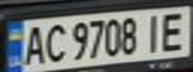0: (103, 16, 124, 57)
7: (84, 17, 106, 60)
8: (121, 14, 142, 56)
9: (66, 18, 90, 61)
A: (18, 21, 48, 66)
C: (42, 20, 69, 64)
E: (157, 8, 190, 53)
I: (139, 11, 166, 53)
